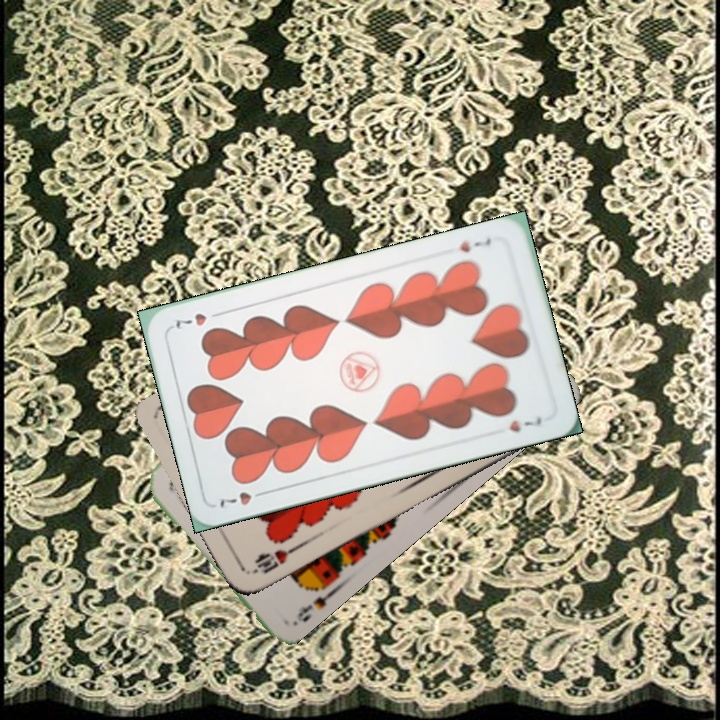H10: (248, 542, 301, 577)
H7: (213, 486, 272, 510), (455, 233, 494, 255)
S9: (290, 577, 340, 628)
